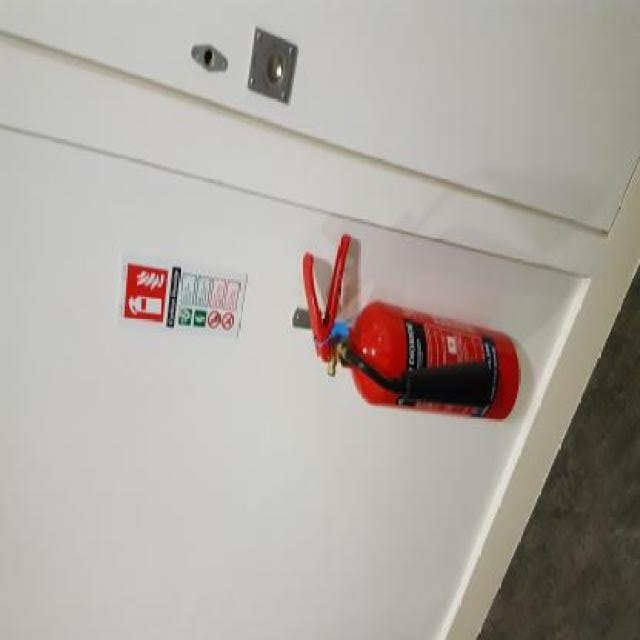fire extinguisher: (302, 233, 520, 422)
